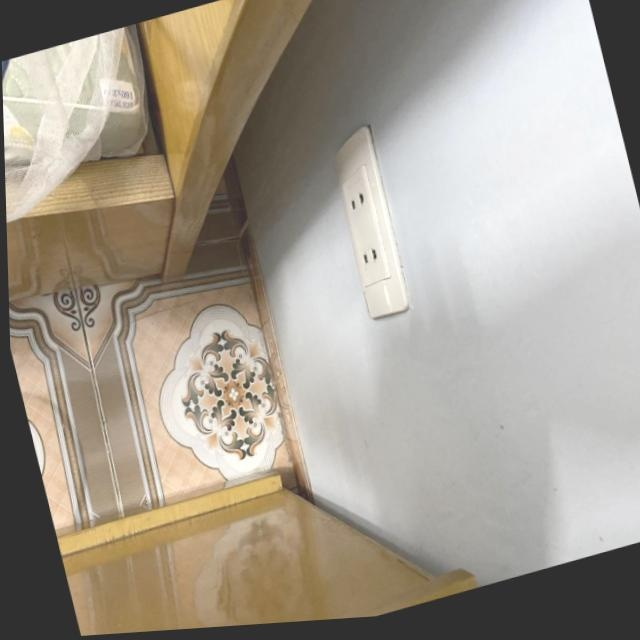outlet: (323, 121, 414, 324)
